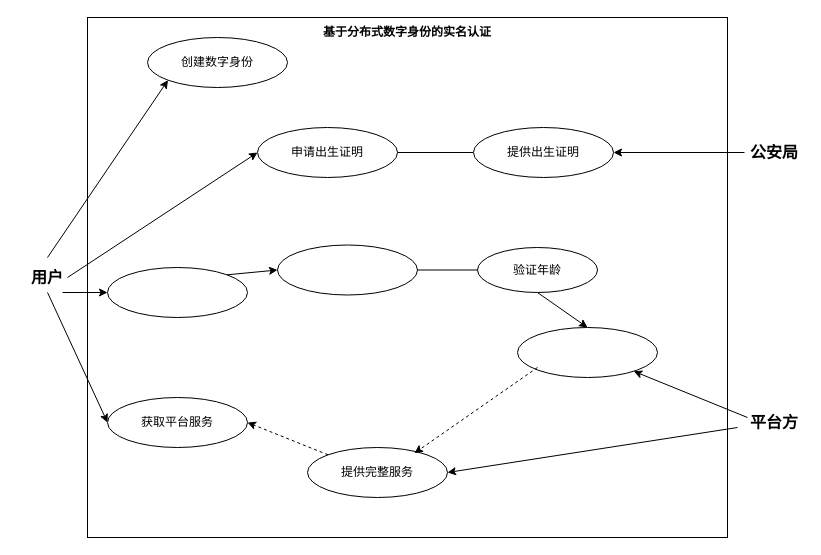
This 821x555 diagram has some shape labels left out. The centre of each missing label's shape, as x and y in pixels:
"完成实名认证" goes at point (587, 352).
"提供匿名出生证明" goes at point (347, 269).
"申请实名认证" goes at point (177, 292).
